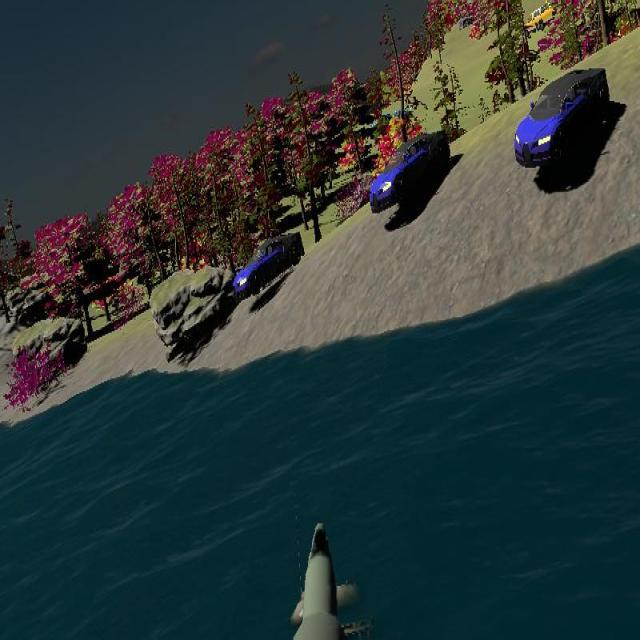car: (514, 68, 611, 167), (369, 130, 451, 214), (234, 230, 305, 298), (524, 3, 559, 37)
